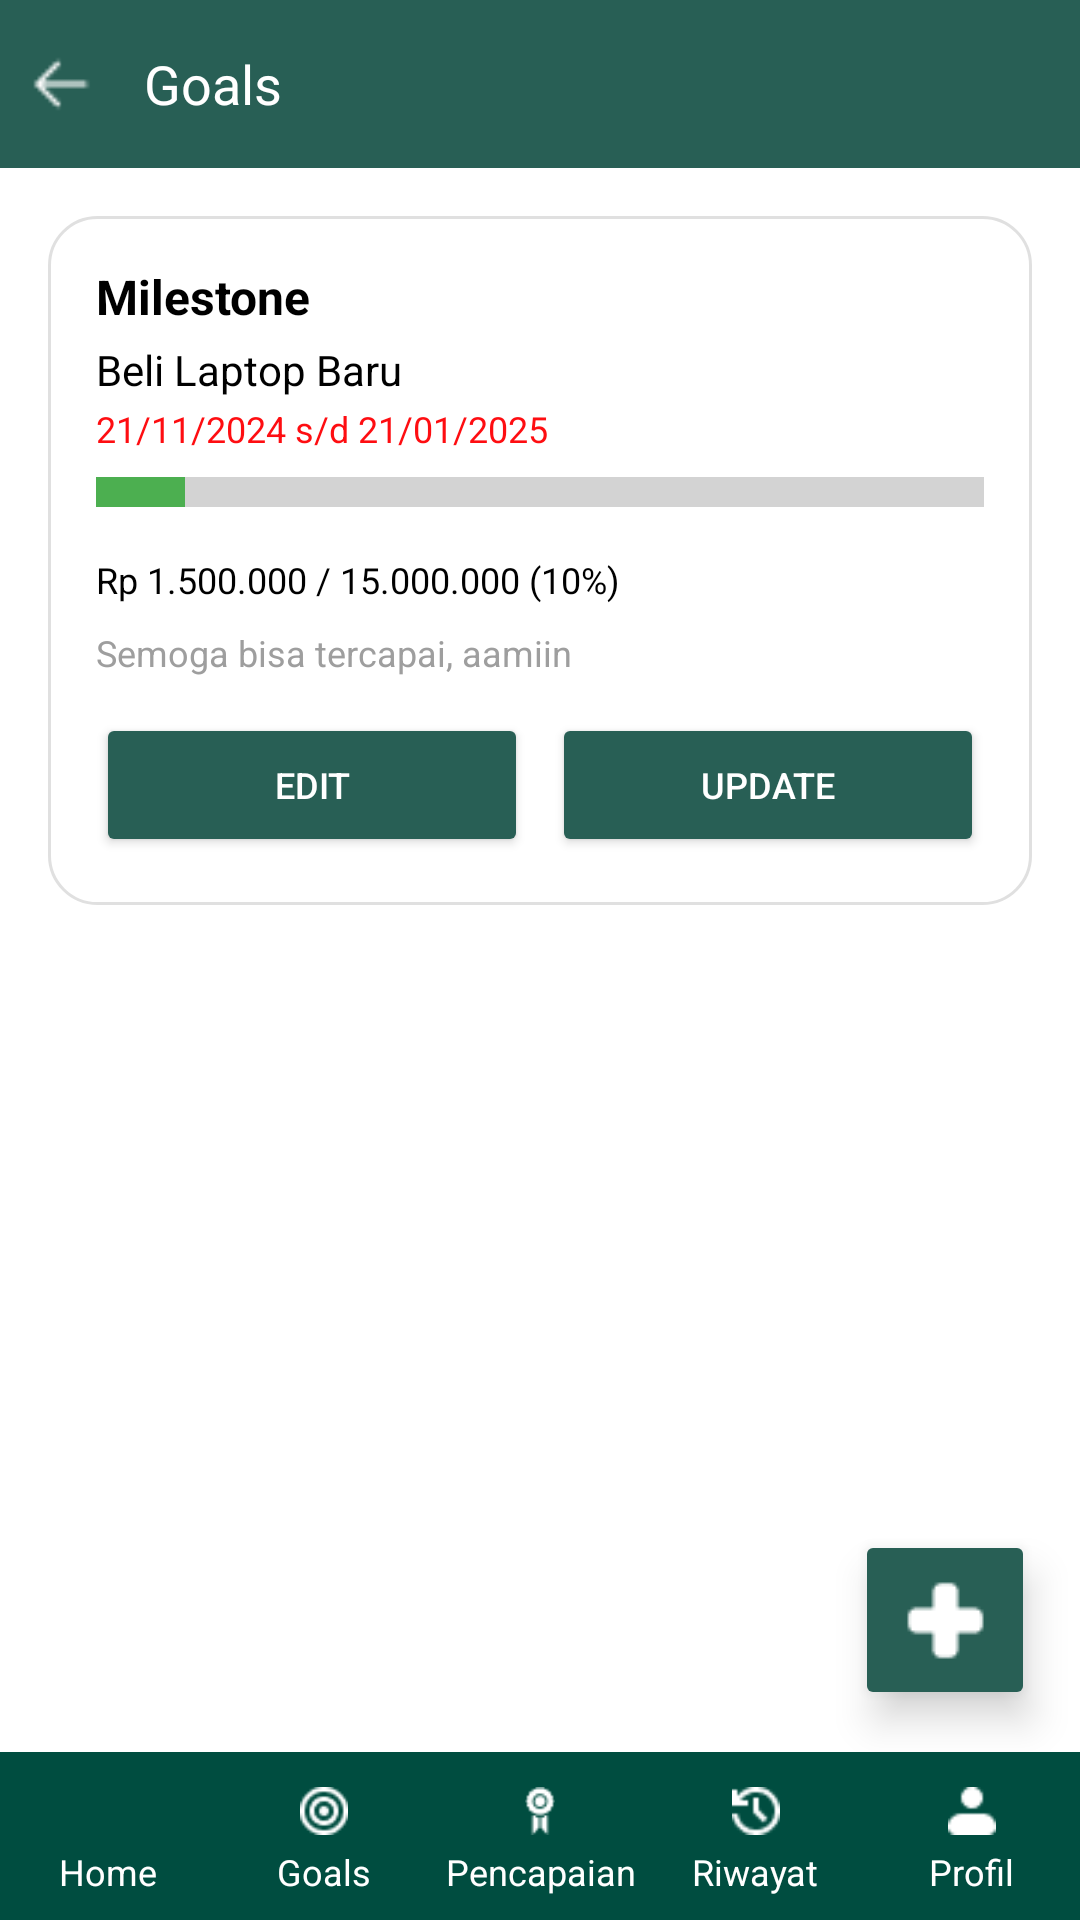

Named icons in this screenshot (1080px x 1920px) and their centers, (x=x, y=y):
Back button: (x=61, y=84)
